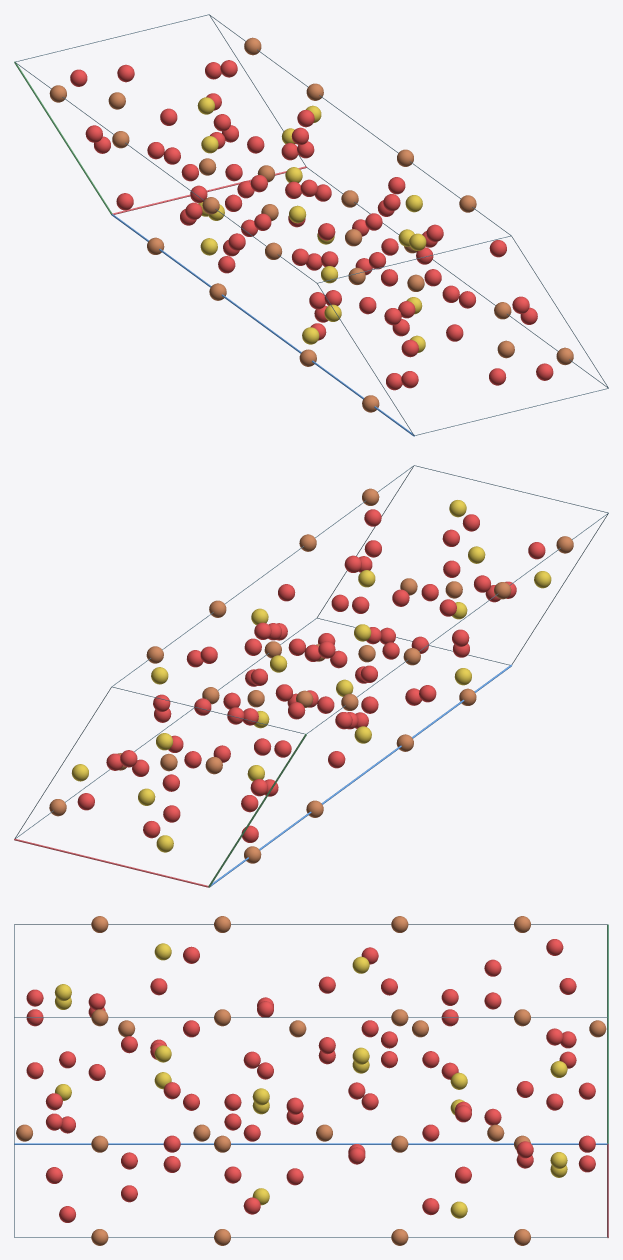
The model's file is chat-ferric-sulfate-rhombohedral.glb.
The picture shows the model from 3 angles, top to bottom: view 1: azimuth 30°, elevation 25°; view 2: azimuth 150°, elevation 25°; view 3: azimuth 270°, elevation 25°; orthographic projection.
Parts seen in each view (by area): view 1: Ô mạng và các trục a, b, c; view 2: Ô mạng và các trục a, b, c; view 3: Ô mạng và các trục a, b, c.
Part boxes in pixels (x1,y1,x2,y2): Ô mạng và các trục a, b, c: (14,14,608,436); Ô mạng và các trục a, b, c: (14,465,608,887); Ô mạng và các trục a, b, c: (14,924,608,1237).
Bounding box in the file's own units: 12.99 × 7.77 × 22.23.
